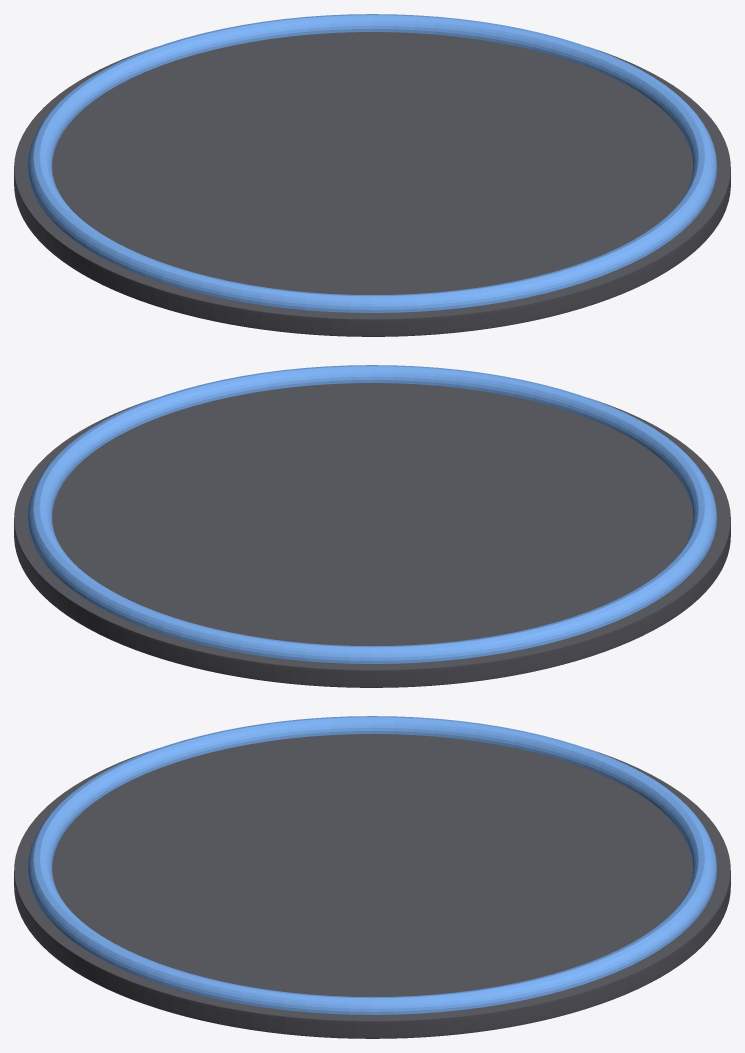
Rendered from Landmark_TronDisc_Hi_083947.fbx.
3 renders of one model, top to bottom at view 1: azimuth 30°, elevation 25°; view 2: azimuth 150°, elevation 25°; view 3: azimuth 270°, elevation 25°, orthographic.
Parts seen in each view (by area): view 1: Cylinder, Torus; view 2: Cylinder, Torus; view 3: Cylinder, Torus.
Part boxes in pixels (left/top/right/bottom): Cylinder: left=14, top=32, right=730, bottom=336; Torus: left=27, top=14, right=717, bottom=312; Cylinder: left=14, top=383, right=730, bottom=687; Torus: left=27, top=365, right=717, bottom=663; Cylinder: left=14, top=734, right=730, bottom=1038; Torus: left=27, top=716, right=717, bottom=1014.
Bounding box in the file's own units: 13.98 × 0.6481 × 13.98.
